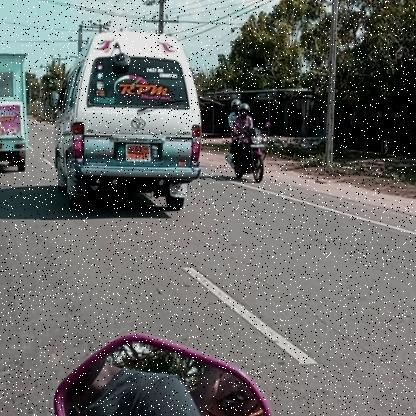motorcycle: (223, 127, 274, 187)
